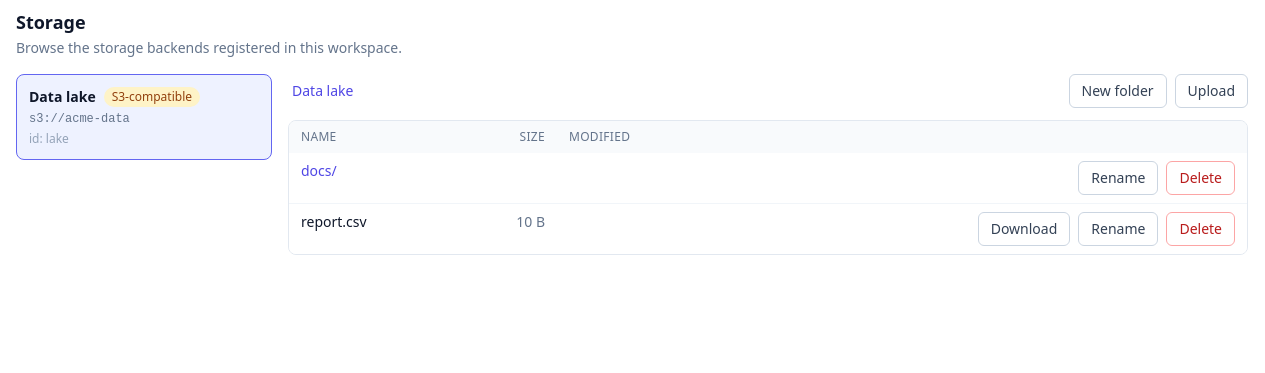
Test: creating a folder › creates it under the current folder and refreshes the listing
Expected: the text "report.csv" is shown, [301,212,367,231]
Click the button "New folder": click(1118, 91) [1068,74,1167,108]
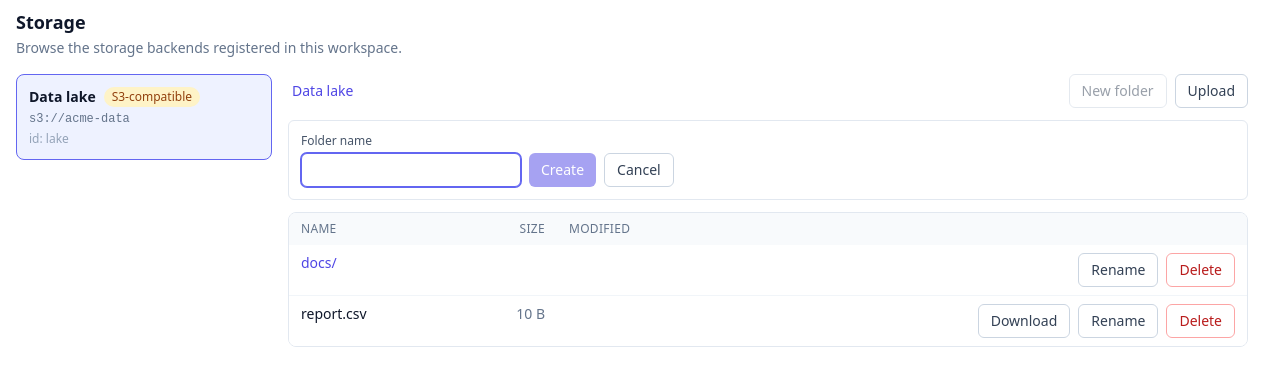
In the field labelled "Folder name": (411, 170) [301,153,521,187], type "  archive  "
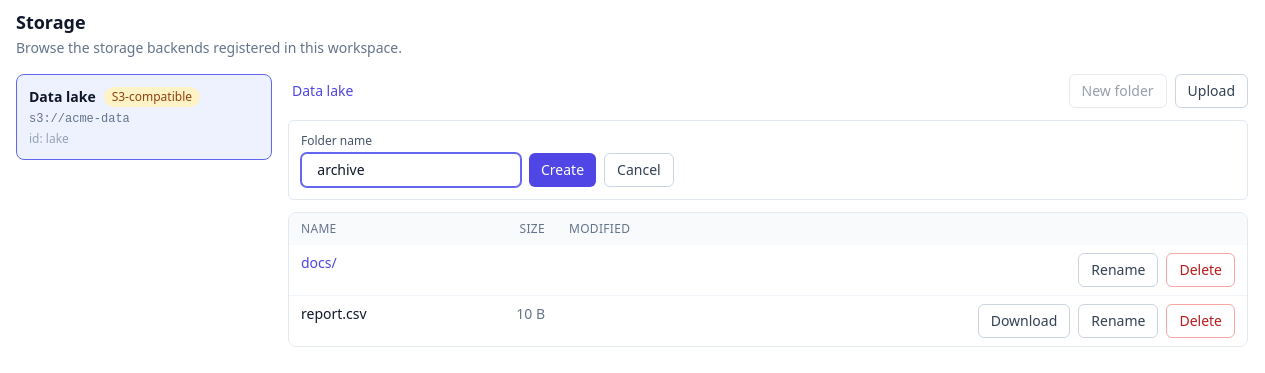
Click the button "Create": click(563, 170) [529,153,596,187]
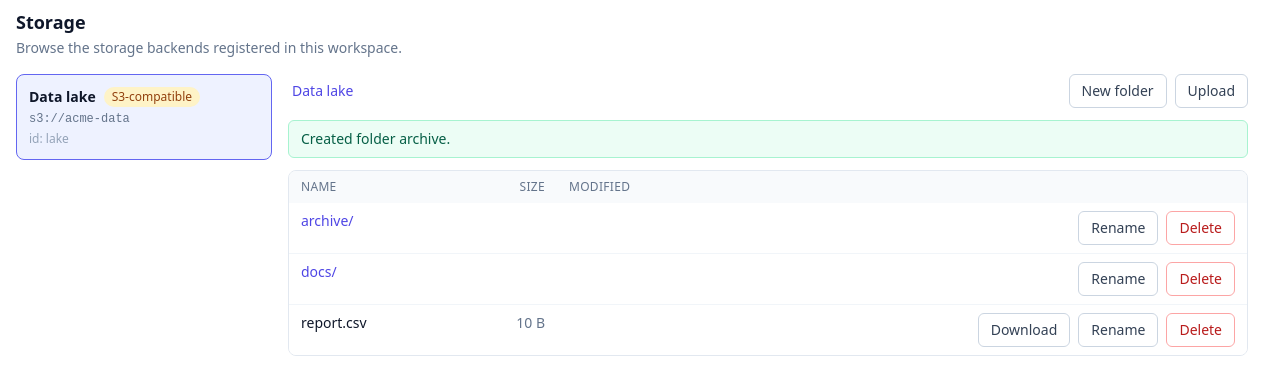
Now the button with aria-label "Open folder archive" is shown, box [301,211,354,231]
Now the text "Created folder archive." is shown, box [288,120,1248,158]
